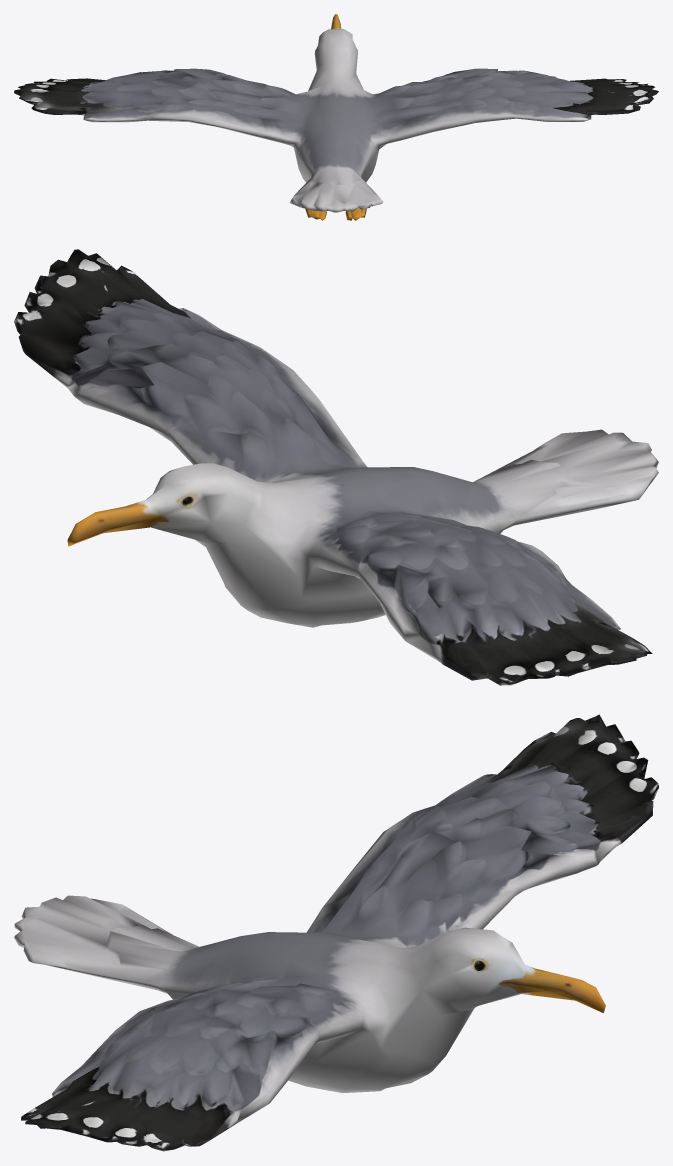
File: env-gullfly.glb
The picture shows the model from 3 angles, top to bottom: view 1: azimuth 30°, elevation 25°; view 2: azimuth 150°, elevation 25°; view 3: azimuth 270°, elevation 25°; orthographic projection. The views are drawn at different scales.
Visible parts, largest first — view 1: tripo_node_7ae9493e-0ce7-4f04-95fa-c1f86000381f; view 2: tripo_node_7ae9493e-0ce7-4f04-95fa-c1f86000381f; view 3: tripo_node_7ae9493e-0ce7-4f04-95fa-c1f86000381f.
Boxes of the visible parts, x1,y1,x2,y2 form: tripo_node_7ae9493e-0ce7-4f04-95fa-c1f86000381f: (14,14,658,220); tripo_node_7ae9493e-0ce7-4f04-95fa-c1f86000381f: (14,249,658,685); tripo_node_7ae9493e-0ce7-4f04-95fa-c1f86000381f: (14,714,658,1151).
Size of the model in its own units: 0.999 by 0.2257 by 0.6562.
1 material, 1 textured.
